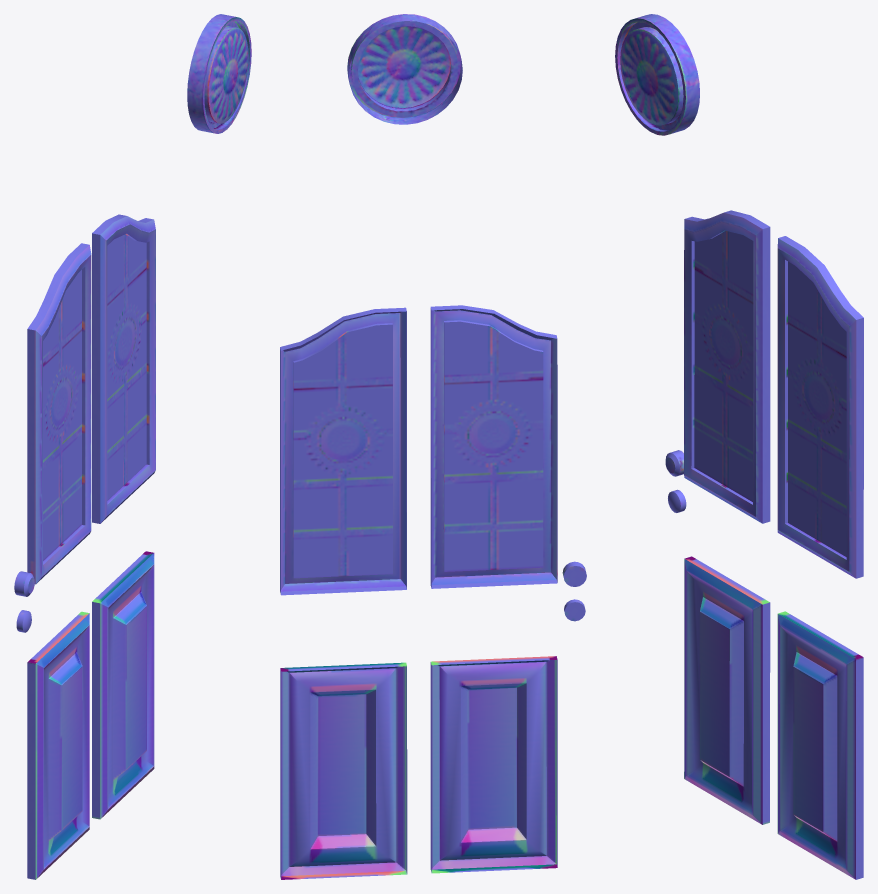
3 views of the same model, side by side, from view 1: azimuth 30°, elevation 25°; view 2: azimuth 150°, elevation 25°; view 3: azimuth 270°, elevation 25° (orthographic). The views are drawn at different scales.
Visible parts, largest first — view 1: doordeco_low_003; view 2: doordeco_low_003; view 3: doordeco_low_003.
Boxes of the visible parts, x1,y1,x2,y2 form: doordeco_low_003: [14, 14, 251, 879]; doordeco_low_003: [280, 14, 586, 879]; doordeco_low_003: [615, 14, 863, 879].
Size of the model in its own units: 141 by 458 by 122.
